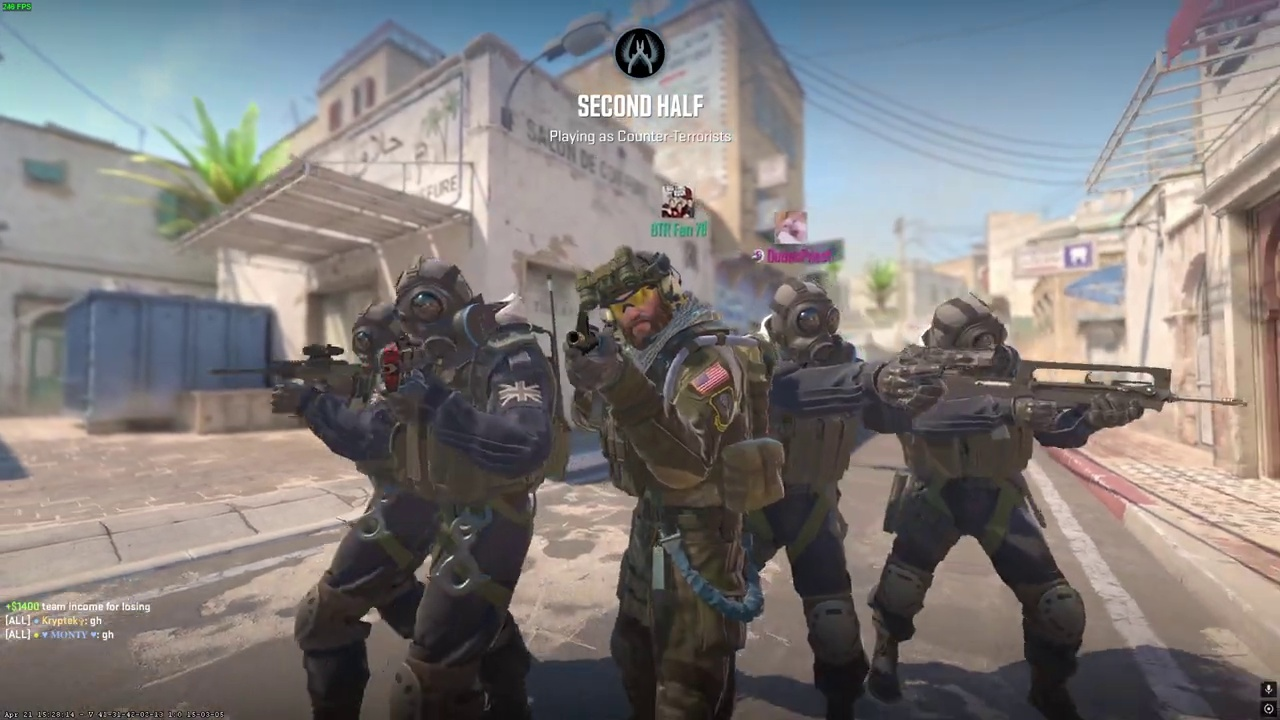CT: (571, 249, 758, 719), (883, 289, 1086, 720), (386, 263, 560, 715), (724, 275, 892, 720), (284, 250, 415, 720)
